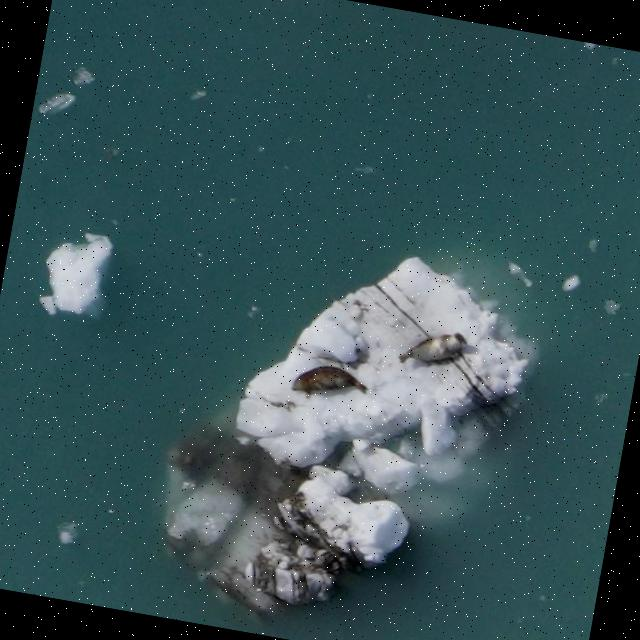seal: (289, 361, 370, 400), (394, 331, 468, 363)
